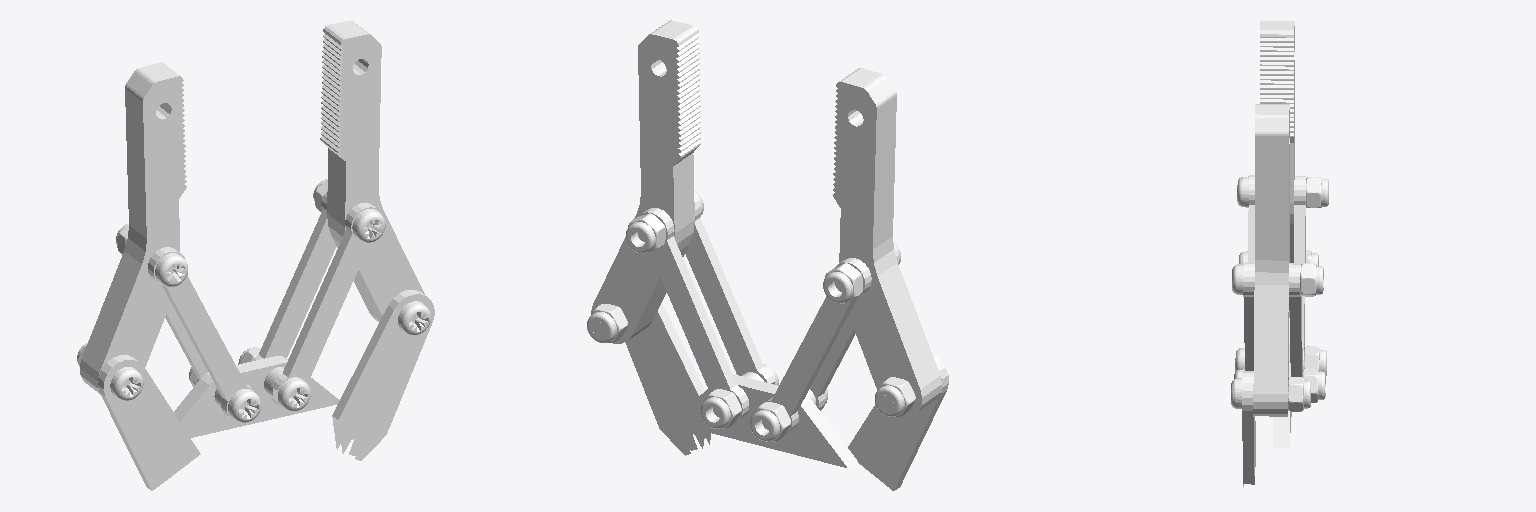
The robot description file, URDF, robot "dofbot":
<?xml version="1.0" encoding="utf-8"?>
<robot name="dofbot">
  <ros2_control name="dofbot_robot" type="actuator">
    <hardware>
      <plugin>dofbot::DofbotServo</plugin>
      <param name="mode">hardware</param>
    </hardware>
    <joint name="joint1">
      <command_interface name="position">
        <param name="min">-1.57</param>
        <param name="max">1.57</param>
      </command_interface>
      <state_interface name="position" />
    </joint>
    <joint name="joint2">
      <command_interface name="position">
        <param name="min">-1.57</param>
        <param name="max">1.57</param>
      </command_interface>
      <state_interface name="position" />
    </joint>
    <joint name="joint3">
      <command_interface name="position">
        <param name="min">-1.57</param>
        <param name="max">1.57</param>
      </command_interface>
      <state_interface name="position" />
    </joint>
    <joint name="joint4">
      <command_interface name="position">
        <param name="min">-1.57</param>
        <param name="max">1.57</param>
      </command_interface>
      <state_interface name="position" />
    </joint>
    <joint name="joint5">
      <command_interface name="position">
        <param name="min">-1.57</param>
        <param name="max">3.1416</param>
      </command_interface>
      <state_interface name="position" />
    </joint>
    <joint name="gripper">
      <command_interface name="position">
        <param name="min">-1.57</param>
        <param name="max">3.1416</param>
      </command_interface>
      <state_interface name="position" />
    </joint>
    </ros2_control>
  <link name="world" />
	<joint name="virtual_joint" type="fixed">
		<parent link="world"/>
		<child link="base_link"/>
		<origin xyz= "0 0 0" rpy = "0 0 0"/>  
	</joint>
  <link name="base_link">
    <visual>
      <origin xyz="0 0 0" rpy="0 0 0" />
      <geometry>
        <mesh filename="package://dofbot/meshes/base_link.STL" />
      </geometry>
      <material name="">
        <color rgba="0.7 0.7 0.7 1" />
      </material>
    </visual>
    <collision>
      <origin xyz="0 0 0" rpy="0 0 0" />
      <geometry>
        <mesh filename="package://dofbot/meshes/base_link.STL" />
      </geometry>
    </collision>
  </link>
  <link name="link1">
    <visual>
      <origin xyz="0 0 0" rpy="0 0 0" />
      <geometry>
        <mesh filename="package://dofbot/meshes/link1.STL" />
      </geometry>
      <material name="">
        <color rgba="0 0.7 0 1" />
      </material>
    </visual>
    <collision>
      <origin xyz="0 0 0" rpy="0 0 0" />
      <geometry>
        <mesh filename="package://dofbot/meshes/link1.STL" />
      </geometry>
    </collision>
  </link>
  <joint name="joint1" type="revolute">
    <origin xyz="0 0 0.064" rpy="0 0 0" />
    <parent link="base_link" />
    <child link="link1" />
    <axis xyz="0 0 1" />
    <limit acceleration="4" lower="-1.5708" upper="1.5708" effort="100"
    velocity="1" />
  </joint>
  <link name="link2">
    <visual>
      <origin xyz="0 0 0" rpy="0 0 0" />
      <geometry>
        <mesh filename="package://dofbot/meshes/link2.STL" />
      </geometry>
      <material name="">
        <color rgba="0.7 0.7 0.7 1" />
      </material>
    </visual>
    <collision>
      <origin xyz="0 0 0" rpy="0 0 0" />
      <geometry>
        <mesh filename="package://dofbot/meshes/link2.STL" />
      </geometry>
    </collision>
  </link>
  <joint name="joint2" type="revolute">
    <origin xyz="0 0 0.0435" rpy="0 1.5708 0" />
    <parent link="link1" />
    <child link="link2" />
    <axis xyz="0 0 1" />
    <limit acceleration="4" lower="-1.5708" upper="1.5708" effort="100"
    velocity="1" />
  </joint>
  <link name="link3">
    <visual>
      <origin xyz="0 0 0" rpy="0 0 0" />
      <geometry>
        <mesh filename="package://dofbot/meshes/link3.STL" />
      </geometry>
      <material name="">
        <color rgba="0 0.7 0 1" />
      </material>
    </visual>
    <collision>
      <origin xyz="0 0 0" rpy="0 0 0" />
      <geometry>
        <mesh filename="package://dofbot/meshes/link3.STL" />
      </geometry>
    </collision>
  </link>
  <joint name="joint3" type="revolute">
    <origin xyz="-0.08285 0 0" rpy="0 0 0" />
    <parent link="link2" />
    <child link="link3" />
    <axis xyz="0 0 1" />
    <limit acceleration="4" lower="-1.5708" upper="1.5708" effort="100"
    velocity="1" />
  </joint>
  <link name="link4">
    <visual>
      <origin xyz="0 0 0" rpy="0 0 0" />
      <geometry>
        <mesh filename="package://dofbot/meshes/link4.STL" />
      </geometry>
      <material name="">
        <color rgba="0.7 0.7 0.7 1" />
      </material>
    </visual>
    <collision>
      <origin xyz="0 0 0" rpy="0 0 0" />
      <geometry>
        <mesh filename="package://dofbot/meshes/link4.STL" />
      </geometry>
    </collision>
  </link>
  <joint name="joint4" type="revolute">
    <origin xyz="-0.08285 0 0" rpy="0 0 0" />
    <parent link="link3" />
    <child link="link4" />
    <axis xyz="0 0 1" />
    <limit acceleration="4" lower="-1.5708" upper="1.5708" effort="100"
    velocity="1" />
  </joint>
  <link name="link5">
    <visual>
      <origin xyz="0 0 0" rpy="0 0 0" />
      <geometry>
        <mesh filename="package://dofbot/meshes/link5-nofinger.stl" />
      </geometry>
      <material name="">
        <color rgba="1 1 1 1" />
      </material>
    </visual>
    <collision>
      <origin xyz="0 0 0" rpy="0 0 0" />
      <geometry>
        <mesh filename="package://dofbot/meshes/link5-nofinger.stl" />
      </geometry>
    </collision>
  </link>
  <joint name="joint5" type="revolute">
    <origin xyz="-0.07385 -0.00215 0" rpy="0 -1.5708 0" />
    <parent link="link4" />
    <child link="link5" />
    <axis xyz="0 0 1" />
    <limit acceleration="4" lower="-1.5708" upper="3.1416" effort="100"
    velocity="1" />
  </joint>
  <link name="left_finger">
    <visual>
      <origin xyz="0 0 0" rpy="0 0 0" />
      <geometry>
        <mesh filename="package://dofbot/meshes/leftfinger.stl" />
      </geometry>
      <material name="">
        <color rgba="1 1 1 1" />
      </material>
    </visual>
    <collision>
      <origin xyz="0 0 0" rpy="0 0 0" />
      <geometry>
        <mesh filename="package://dofbot/meshes/leftfinger.stl" />
      </geometry>
    </collision>
  </link>
  <link name="right_finger">
    <visual>
      <origin xyz="0 0 0" rpy="0 0 0" />
      <geometry>
        <mesh filename="package://dofbot/meshes/rightfinger.stl" />
      </geometry>
      <material name="">
        <color rgba="1 1 1 1" />
      </material>
    </visual>
    <collision>
      <origin xyz="0 0 0" rpy="0 0 0" />
      <geometry>
        <mesh filename="package://dofbot/meshes/rightfinger.stl" />
      </geometry>
    </collision>
  </link>
  <joint name="gripper" type="prismatic">
    <origin xyz="0 0 0" rpy="0 0 0" />
    <parent link="link5" />
    <child link="left_finger" />
    <axis xyz="1 0 0" />
    <limit acceleration="4" lower="-0.03" upper="0.05" effort="100" velocity="1" />
  </joint>
  <joint name="gripper_right" type="prismatic">
    <origin xyz="0 0 0" rpy="0 0 0" />
    <parent link="left_finger" />
    <child link="right_finger" />
    <axis xyz="1 0 0" />
    <limit acceleration="4" lower="-0.03" upper="0.05" effort="100" velocity="1" />
  </joint>
</robot>

--- What the picture shows (computed from the rendered views, not written in the file) ---
The picture shows the robot from 3 angles, left to right: view 1: azimuth 30°, elevation 25°; view 2: azimuth 150°, elevation 25°; view 3: azimuth 270°, elevation 25°; orthographic projection.
Robot: dofbot — 9 links, 8 joints (5 revolute, 2 prismatic, 1 fixed); root link world; default pose: every joint at zero.
Visible links, largest first — view 1: right_finger, left_finger; view 2: left_finger, right_finger; view 3: right_finger, left_finger.
Boxes of the visible links, x1,y1,x2,y2 form: right_finger: (238,20,434,460); left_finger: (77,62,273,490); left_finger: (737,68,948,490); right_finger: (587,20,778,455); right_finger: (1231,104,1325,486); left_finger: (1235,20,1328,416).
Bounding box of the posed robot: 0.0605 × 0.0172 × 0.0743 m (x, y, z).
2 mesh visuals loaded from 8 distinct referenced files (2 binary STL); not drawn: 6 (reference not matched to a file when rendering).